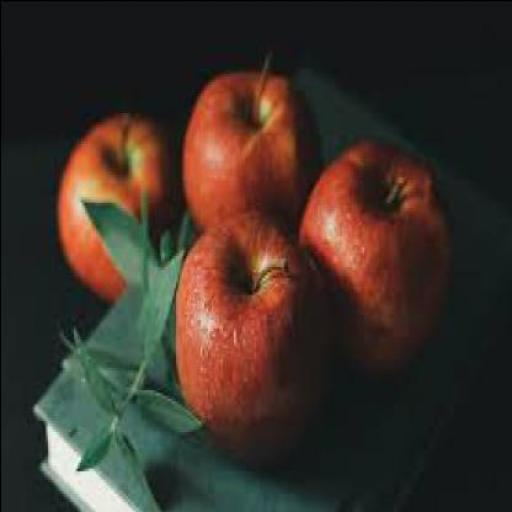biodegradable: (177, 204, 333, 468), (300, 138, 454, 372), (180, 48, 318, 235), (58, 107, 177, 302), (84, 196, 160, 288), (62, 319, 134, 411), (138, 246, 186, 364), (115, 420, 166, 509), (138, 383, 203, 439), (77, 422, 111, 470)
paper: (33, 62, 511, 510)
